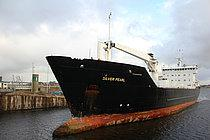Ship: (31, 10, 208, 138)
